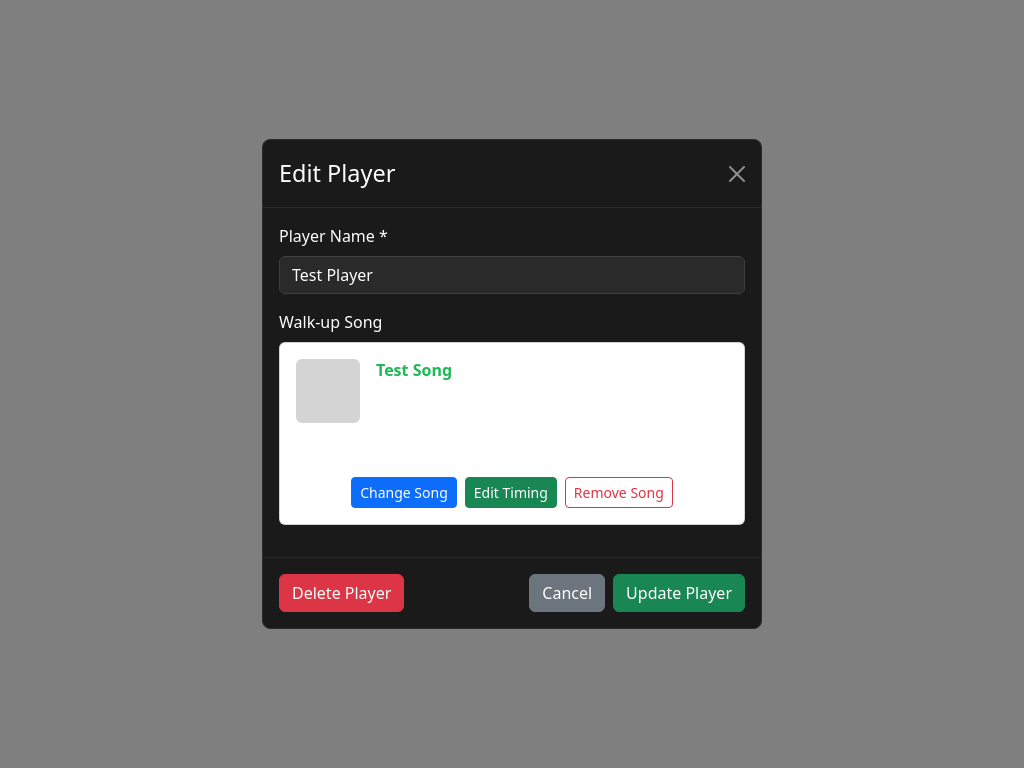
Test: PlayerForm with Song Selection › should handle song removal
Check: the heading "Test Song" is shown, box [376, 359, 452, 381]
Remove song
Click the button "Remove Song" at (619, 492), box [565, 477, 673, 508]
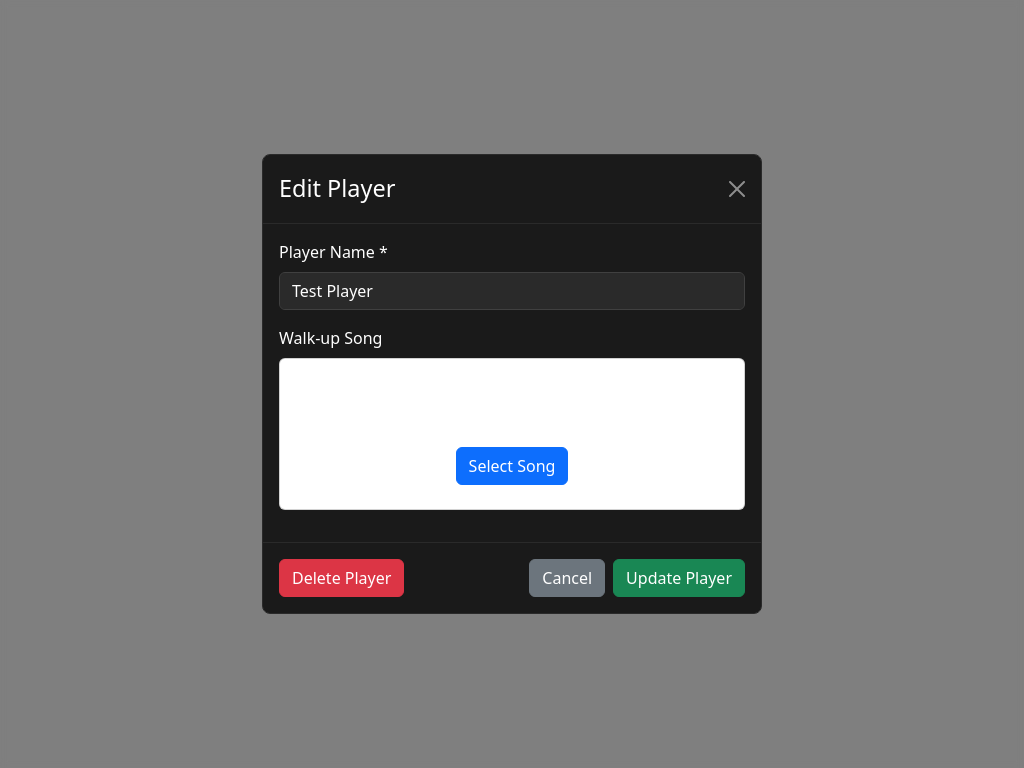
Check: the heading "Test Song" is gone
